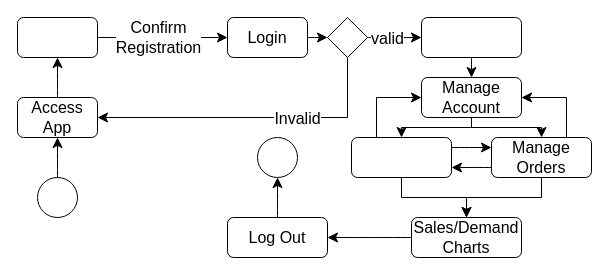
This 609x275 diagram has some shape labels left out. Here are the shapes that lost their labels. From the top down, the centre of each, then its label:
point 57,37: Register
point 471,37: Access Account
point 401,157: Add/manage Products
